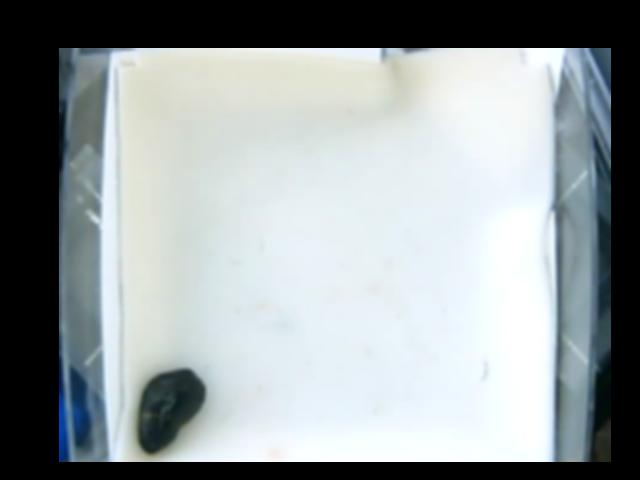Pebble: (137, 368, 206, 458)
